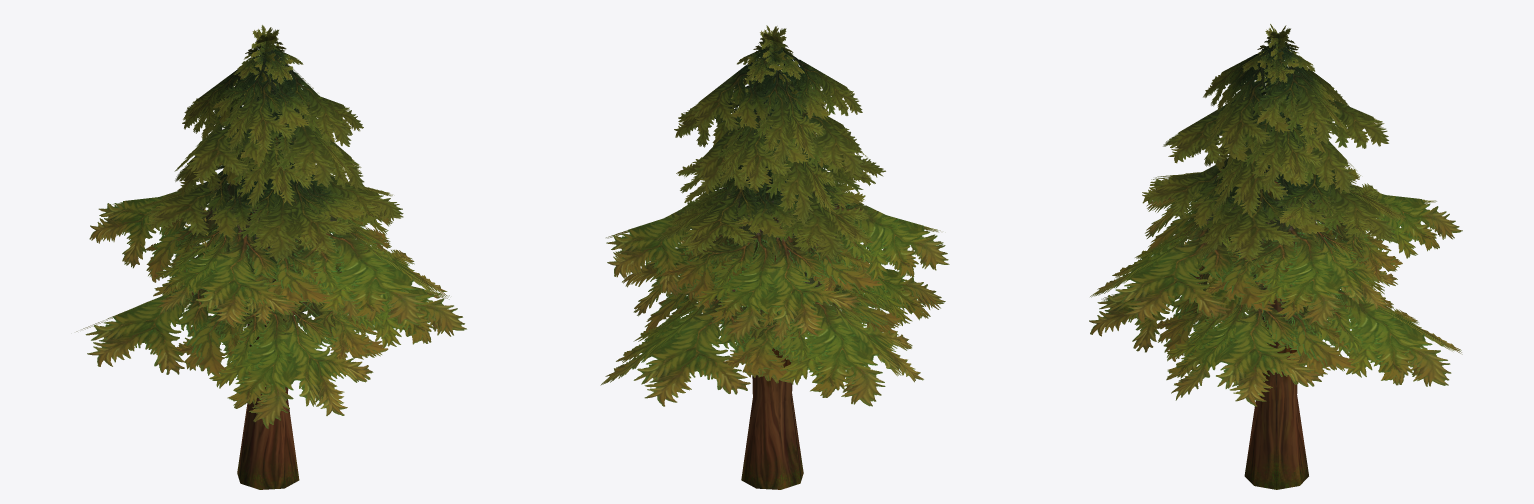
3 renders of one model, left to right at view 1: azimuth 30°, elevation 25°; view 2: azimuth 150°, elevation 25°; view 3: azimuth 270°, elevation 25°, orthographic.
Visible parts, largest first — view 1: Object001; view 2: Object001; view 3: Object001.
Boxes of the visible parts, x1,y1,x2,y2 form: Object001: [76, 25, 466, 489]; Object001: [600, 25, 949, 489]; Object001: [1089, 24, 1462, 489].
Bounding box in the file's own units: 564 × 587 × 564.
Materials: 1 (1 with a texture image).
